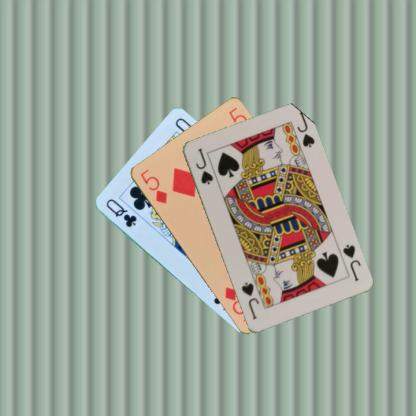5d: (138, 167, 168, 205)
Js: (192, 146, 214, 186), (340, 242, 362, 282)
Qc: (103, 196, 137, 229)
